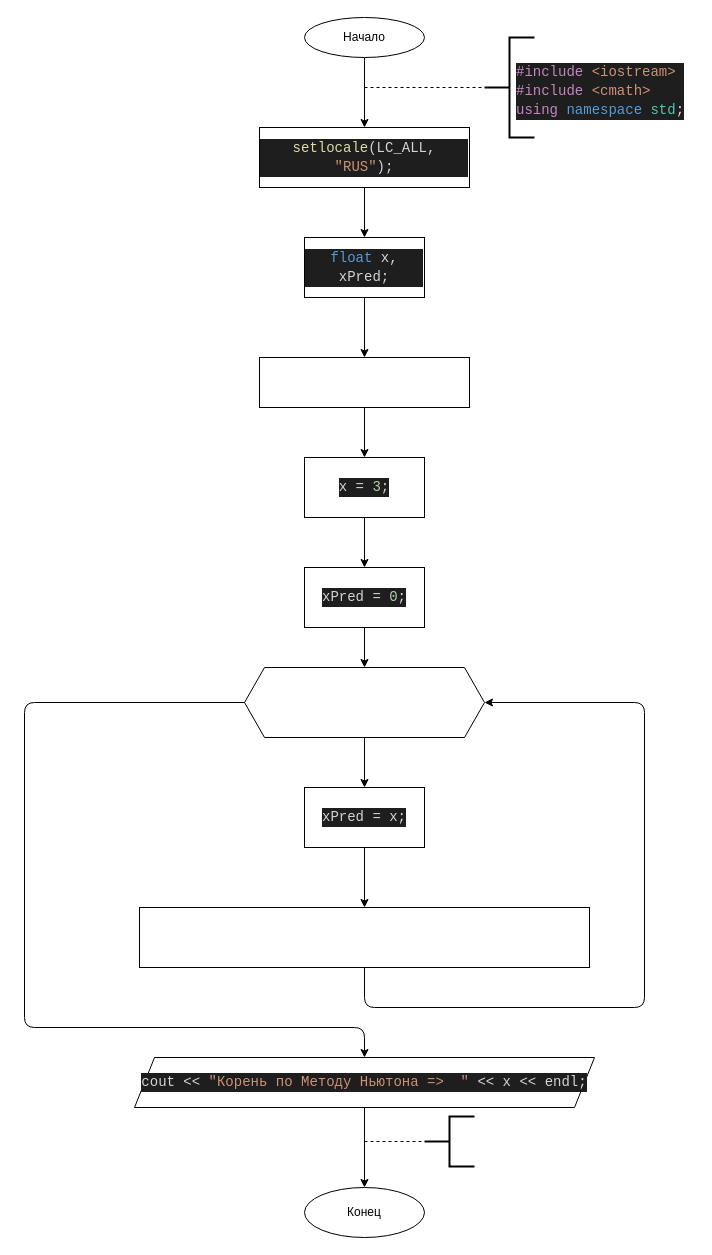
Some shapes in this 712 by 1255 pixel diagram are drawn without their labels. Each missing label, with the centre of its shape:
"double eps = 0.000001 ;" goes at point (364, 382).
"return 0 ;" goes at point (449, 1141).
"while ( abs (x - xPred) > eps)" goes at point (364, 702).
"x = Xpred - ( 3 * sin ( sqrt (xPred)) + 0.35 * xPred - 3.8 );" goes at point (364, 937).
